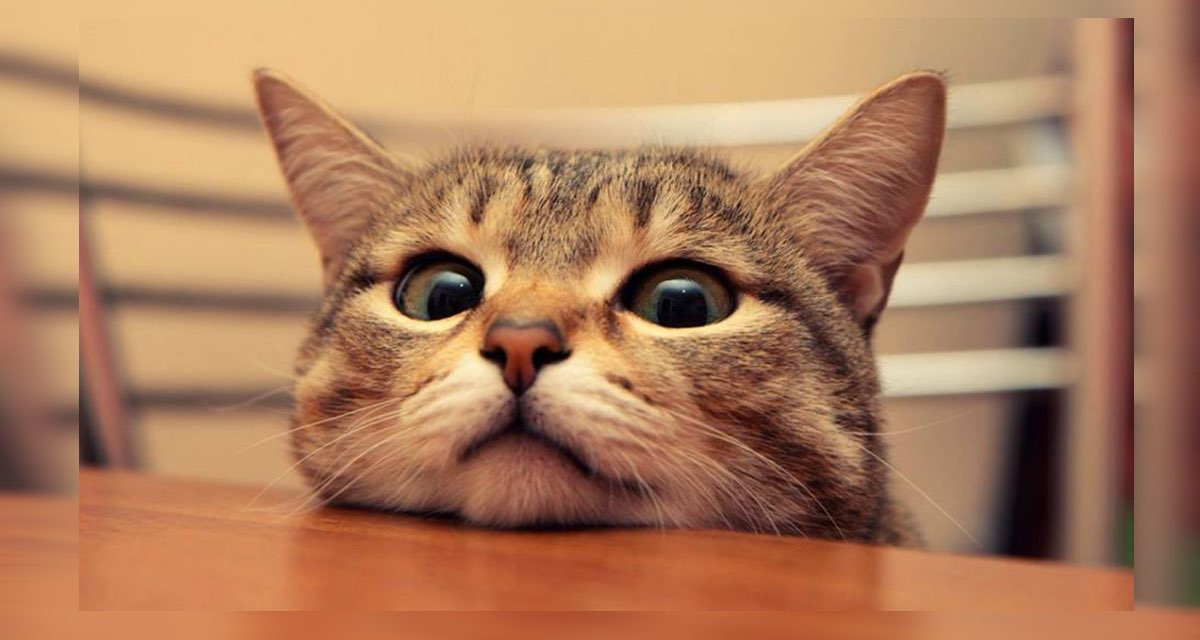Gato: (227, 53, 1005, 559)
